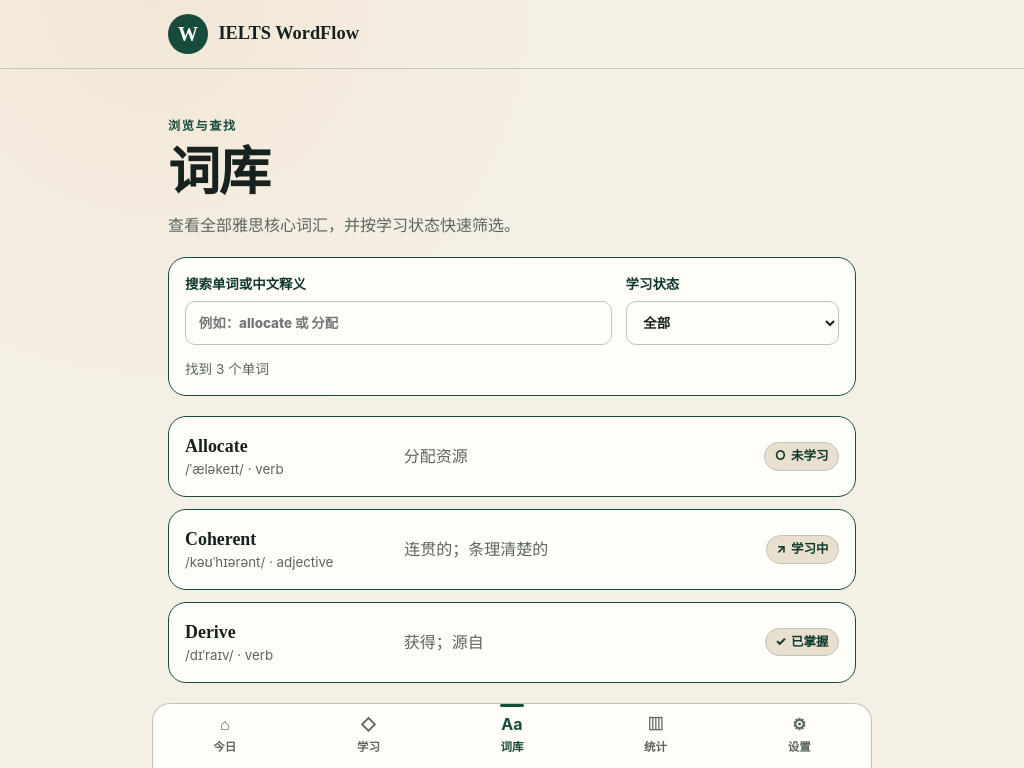
Test: VocabularyPage › searches real fixtures, filters by status, and opens a word detail route
The image size is (1024, 768).
Expected: the heading "词库" is shown, [168,140,269,203]
Expected: the link "Allocate /ˈæləkeɪt/ · verb 分配资源 未学习" is shown, [168,416,856,497]
Step 1. Type "条理" into the search field labelled "搜索单词或中文释义" → (398, 323), box [185,301,612,345]
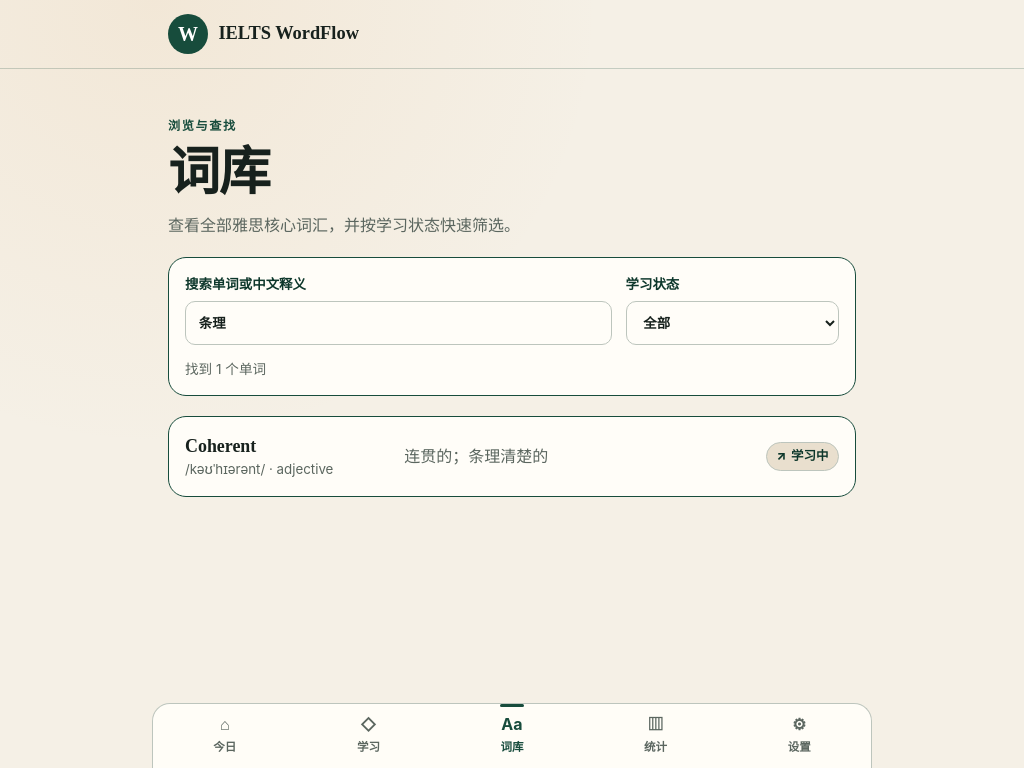
Expected: the link "Coherent /kəʊˈhɪərənt/ · adjective 连贯的；条理清楚的 学习中" is shown, [168,416,856,497]
Expected: the link "Allocate" is gone
Step 2. Clear the search field labelled "搜索单词或中文释义" → (398, 323), box [185,301,612,345]
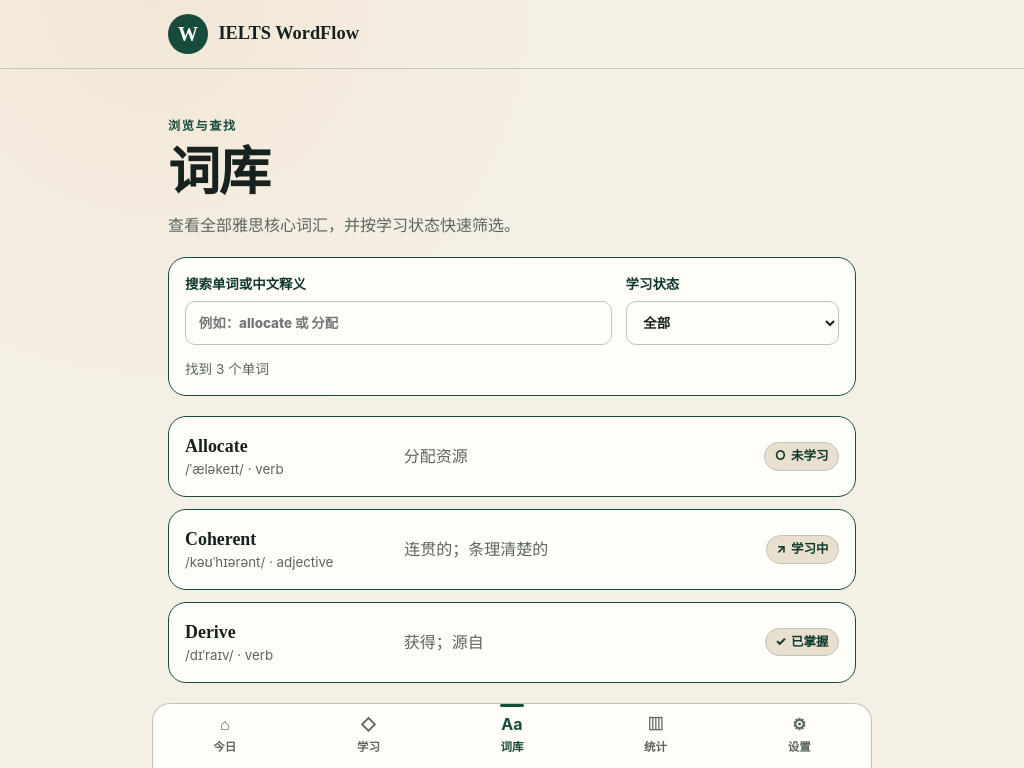
Step 3. Select "已掌握" in the dropdown labelled "学习状态" → (732, 323), box [626,301,839,345]
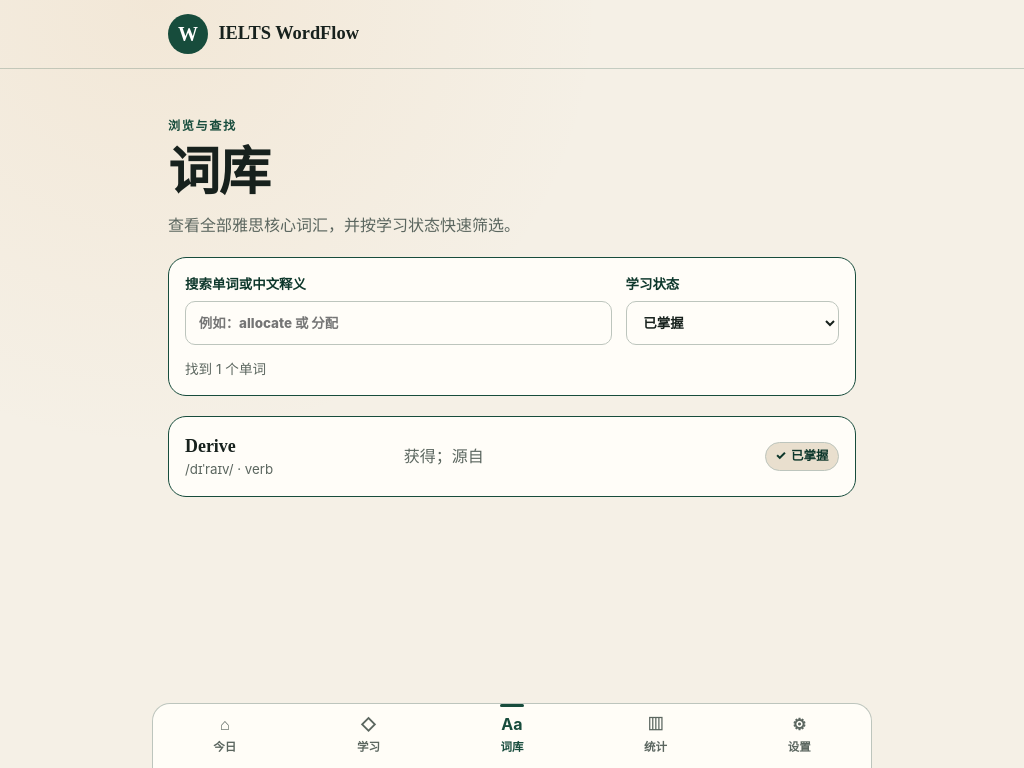
Expected: the link "Derive /dɪˈraɪv/ · verb 获得；源自 已掌握" is shown
Expected: the link "Coherent" is gone
Step 4. Click the link "Derive /dɪˈraɪv/ · verb 获得；源自 已掌握" → (210, 446), box [168,416,856,497]
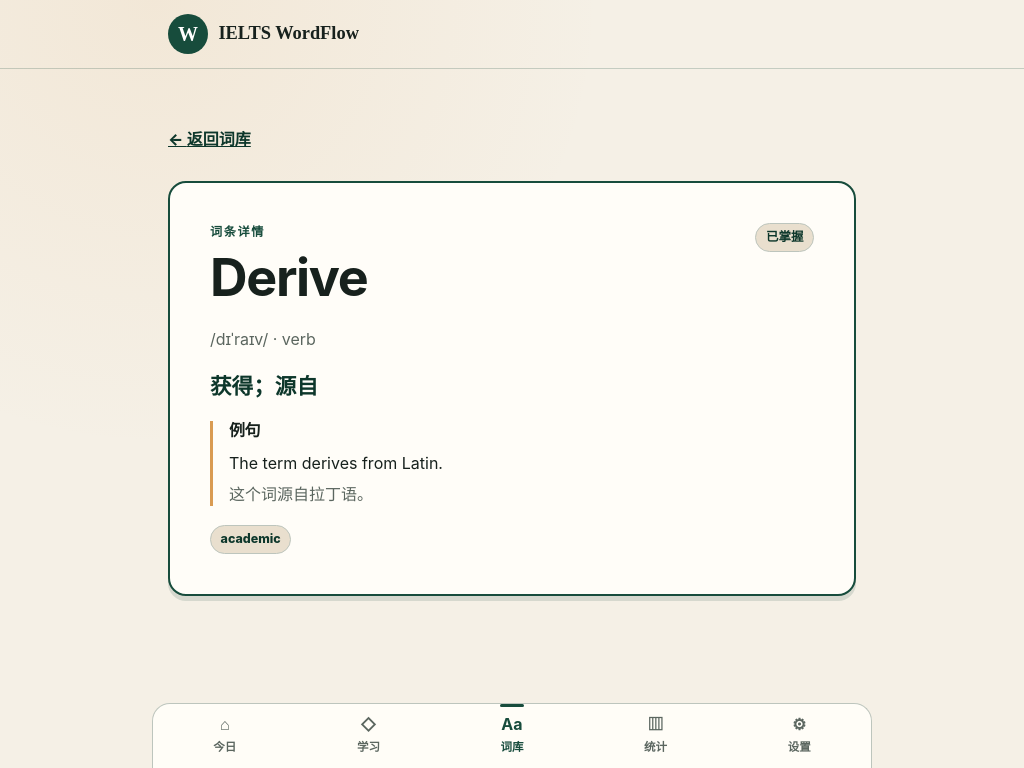
Expected: the text "/dɪˈraɪv/" is shown, [210,329,268,349]
Expected: the text "获得；源自" is shown, [210,373,318,399]
Expected: the heading "Derive" is shown, [210,248,368,307]
